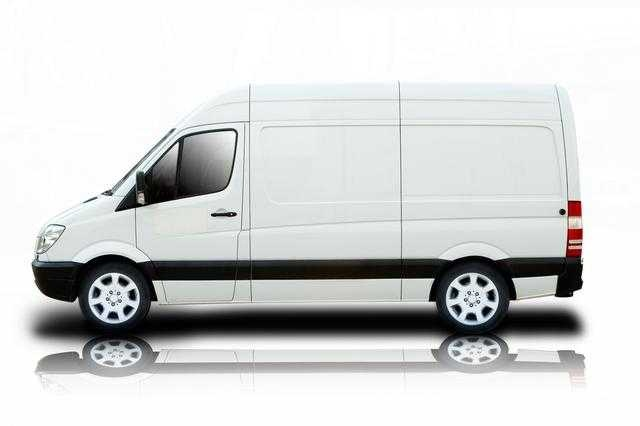van: (31, 79, 583, 337)
